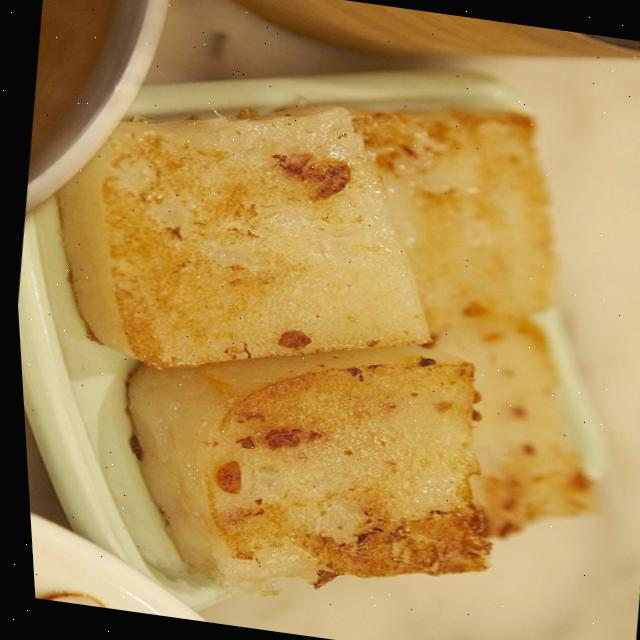蛋糕甜品: (4, 41, 640, 640)
